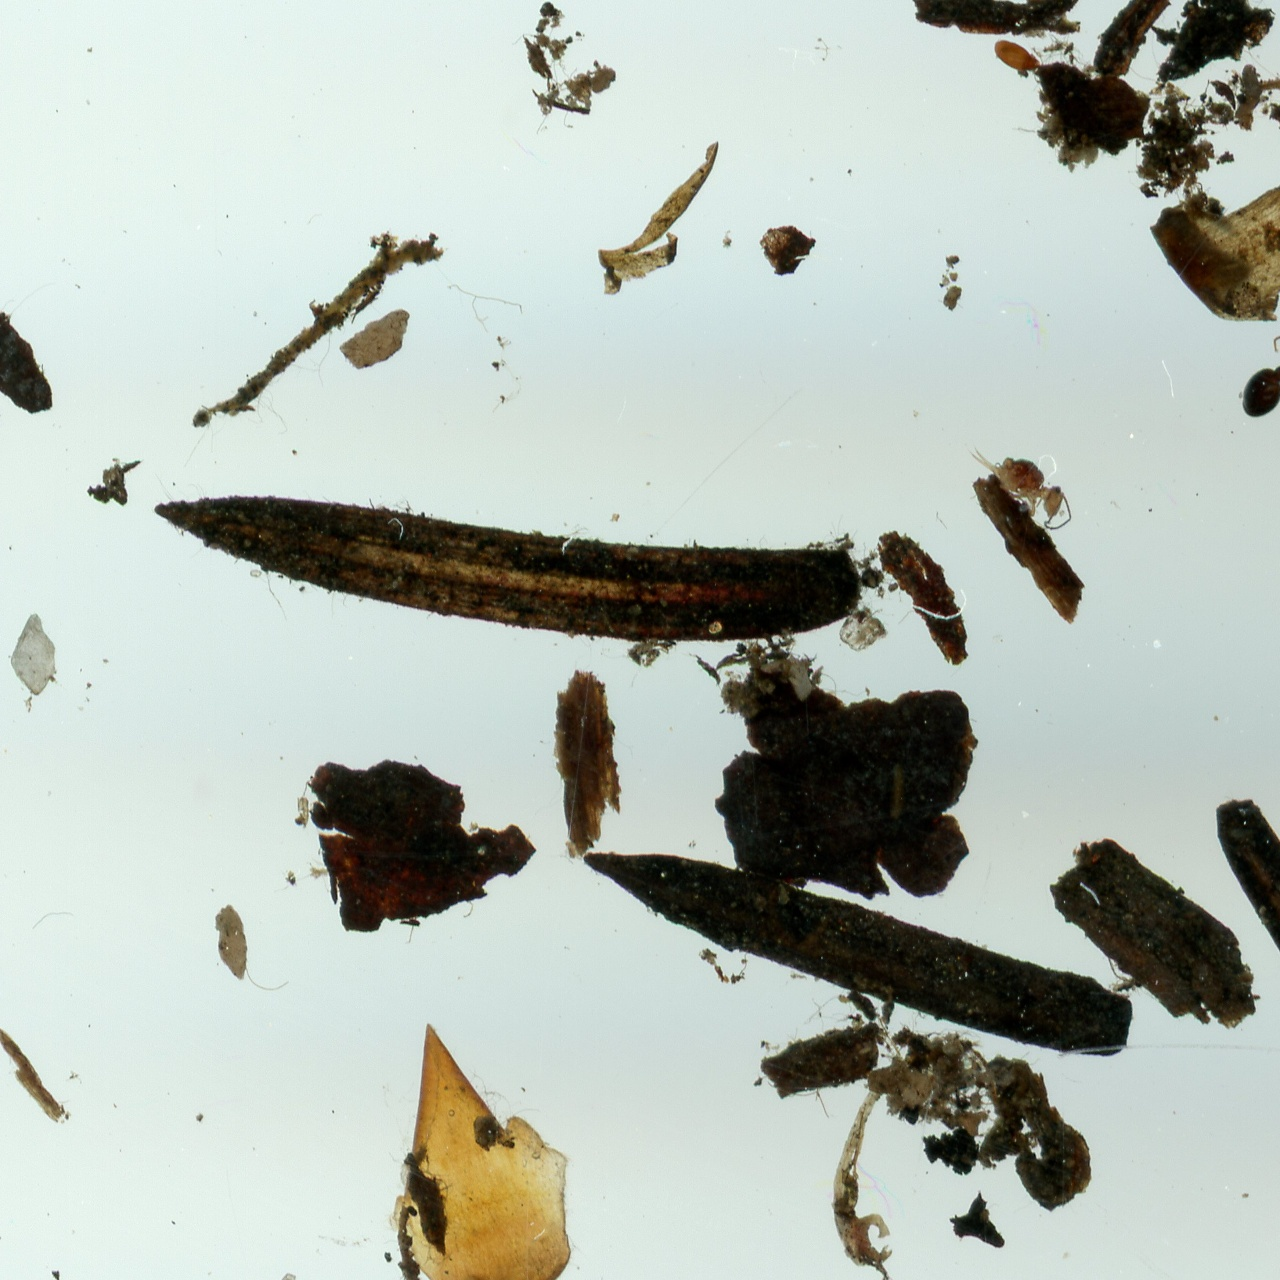arthropod: (961, 422, 1088, 544), (1241, 316, 1280, 421)
